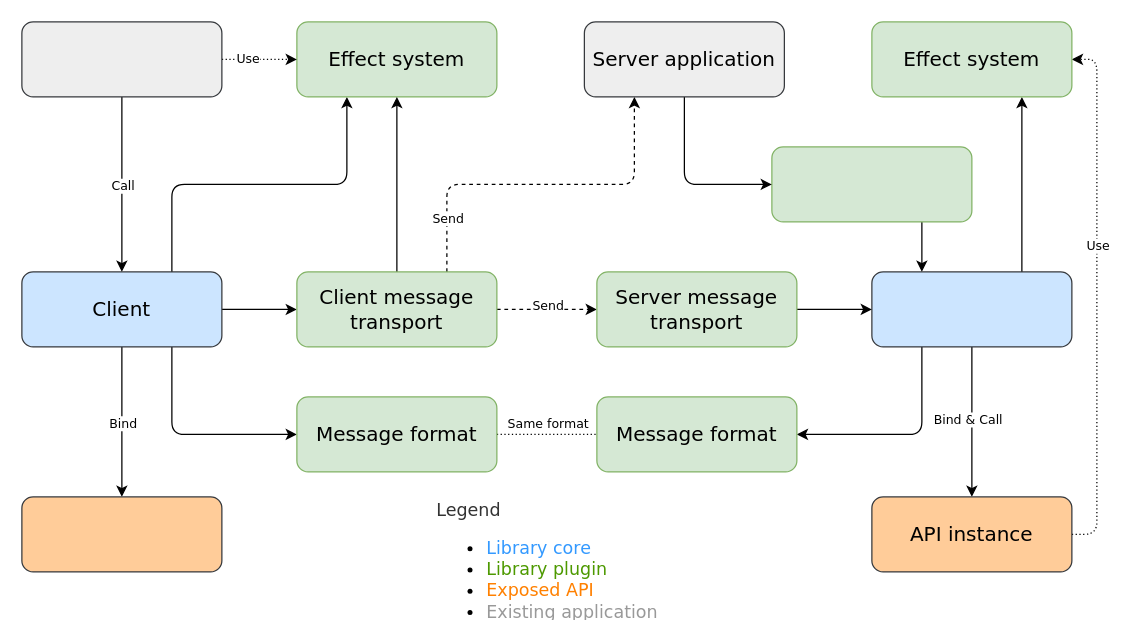
Image size: 1131x644. Some labels were removed from this diagram. The shapes that lost their labels are listed below. From the top down, each one's centre as x and y in pixels, then its label:
At (121,59): "Client application".
At (871,184): "Endpoint message transport".
At (971,309): "Handler".
At (121,534): "API trait".
